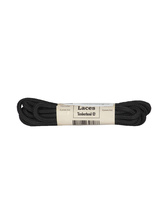other: (10, 89, 159, 136)
